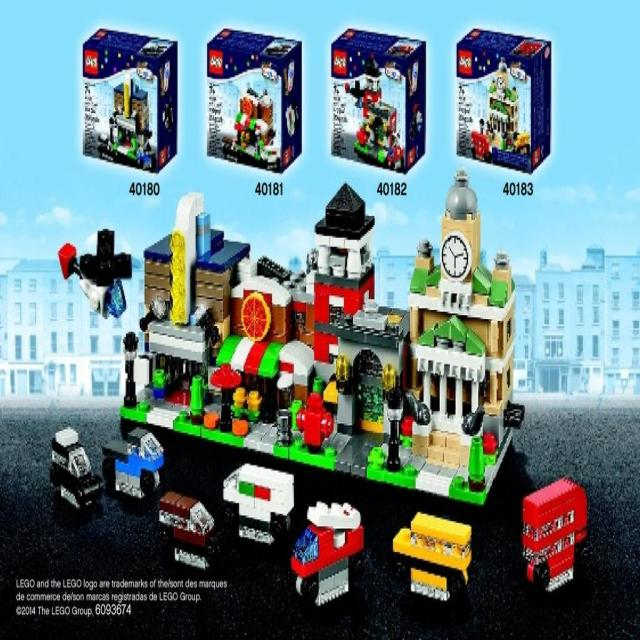Toy: (400, 170, 518, 482), (258, 179, 374, 380), (138, 192, 247, 377), (315, 288, 408, 441), (216, 330, 312, 426), (289, 502, 367, 610), (59, 221, 131, 331), (522, 479, 584, 598), (226, 460, 294, 565), (393, 507, 467, 602), (102, 421, 164, 518), (145, 488, 210, 578), (342, 80, 408, 167), (227, 252, 292, 337), (272, 392, 338, 470), (101, 77, 155, 161), (52, 422, 95, 516), (477, 78, 528, 156), (173, 405, 259, 447), (374, 366, 410, 465), (289, 366, 331, 446), (222, 85, 274, 146), (109, 326, 134, 412), (138, 290, 164, 334), (237, 383, 262, 420), (188, 370, 204, 413), (150, 366, 170, 396)
